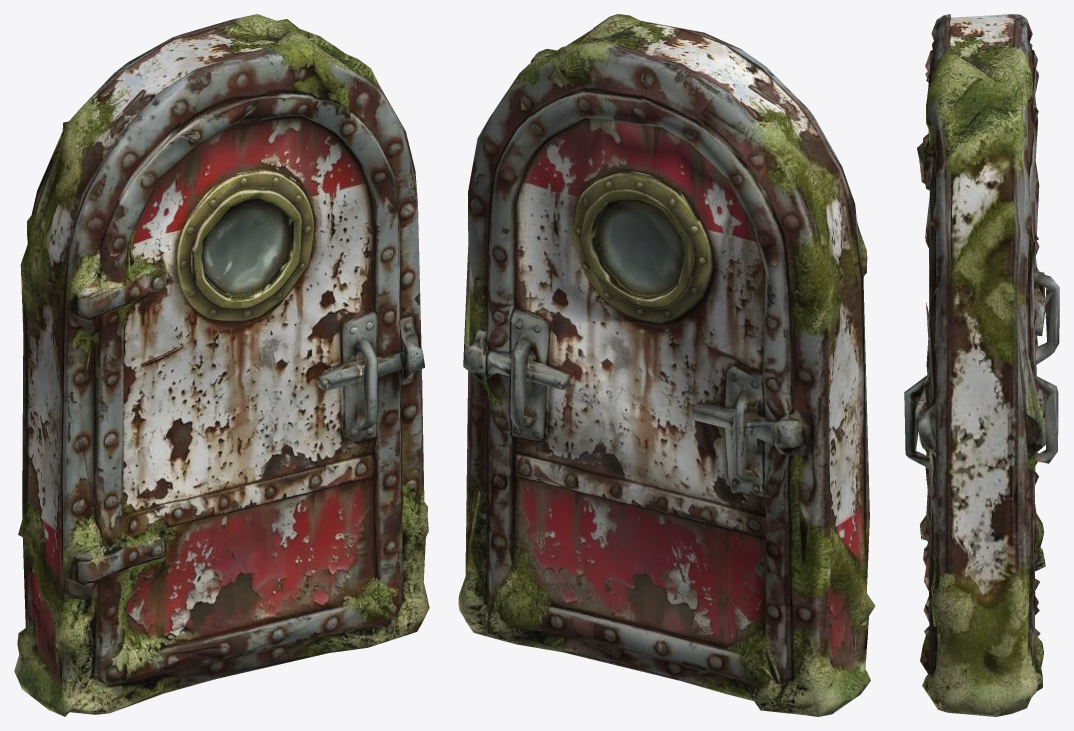
File: metaldoor.glb
3 views of the same model, side by side, from view 1: azimuth 30°, elevation 25°; view 2: azimuth 150°, elevation 25°; view 3: azimuth 270°, elevation 25° (orthographic). The views are drawn at different scales.
Visible parts, largest first — view 1: Mesh_0; view 2: Mesh_0; view 3: Mesh_0.
Boxes of the visible parts, <box> form: Mesh_0: <box>14,14,429,716</box>; Mesh_0: <box>458,14,875,716</box>; Mesh_0: <box>904,14,1059,716</box>.
Size of the model in its own units: 1.23 by 1.89 by 0.4464.
1 material, 1 textured.
